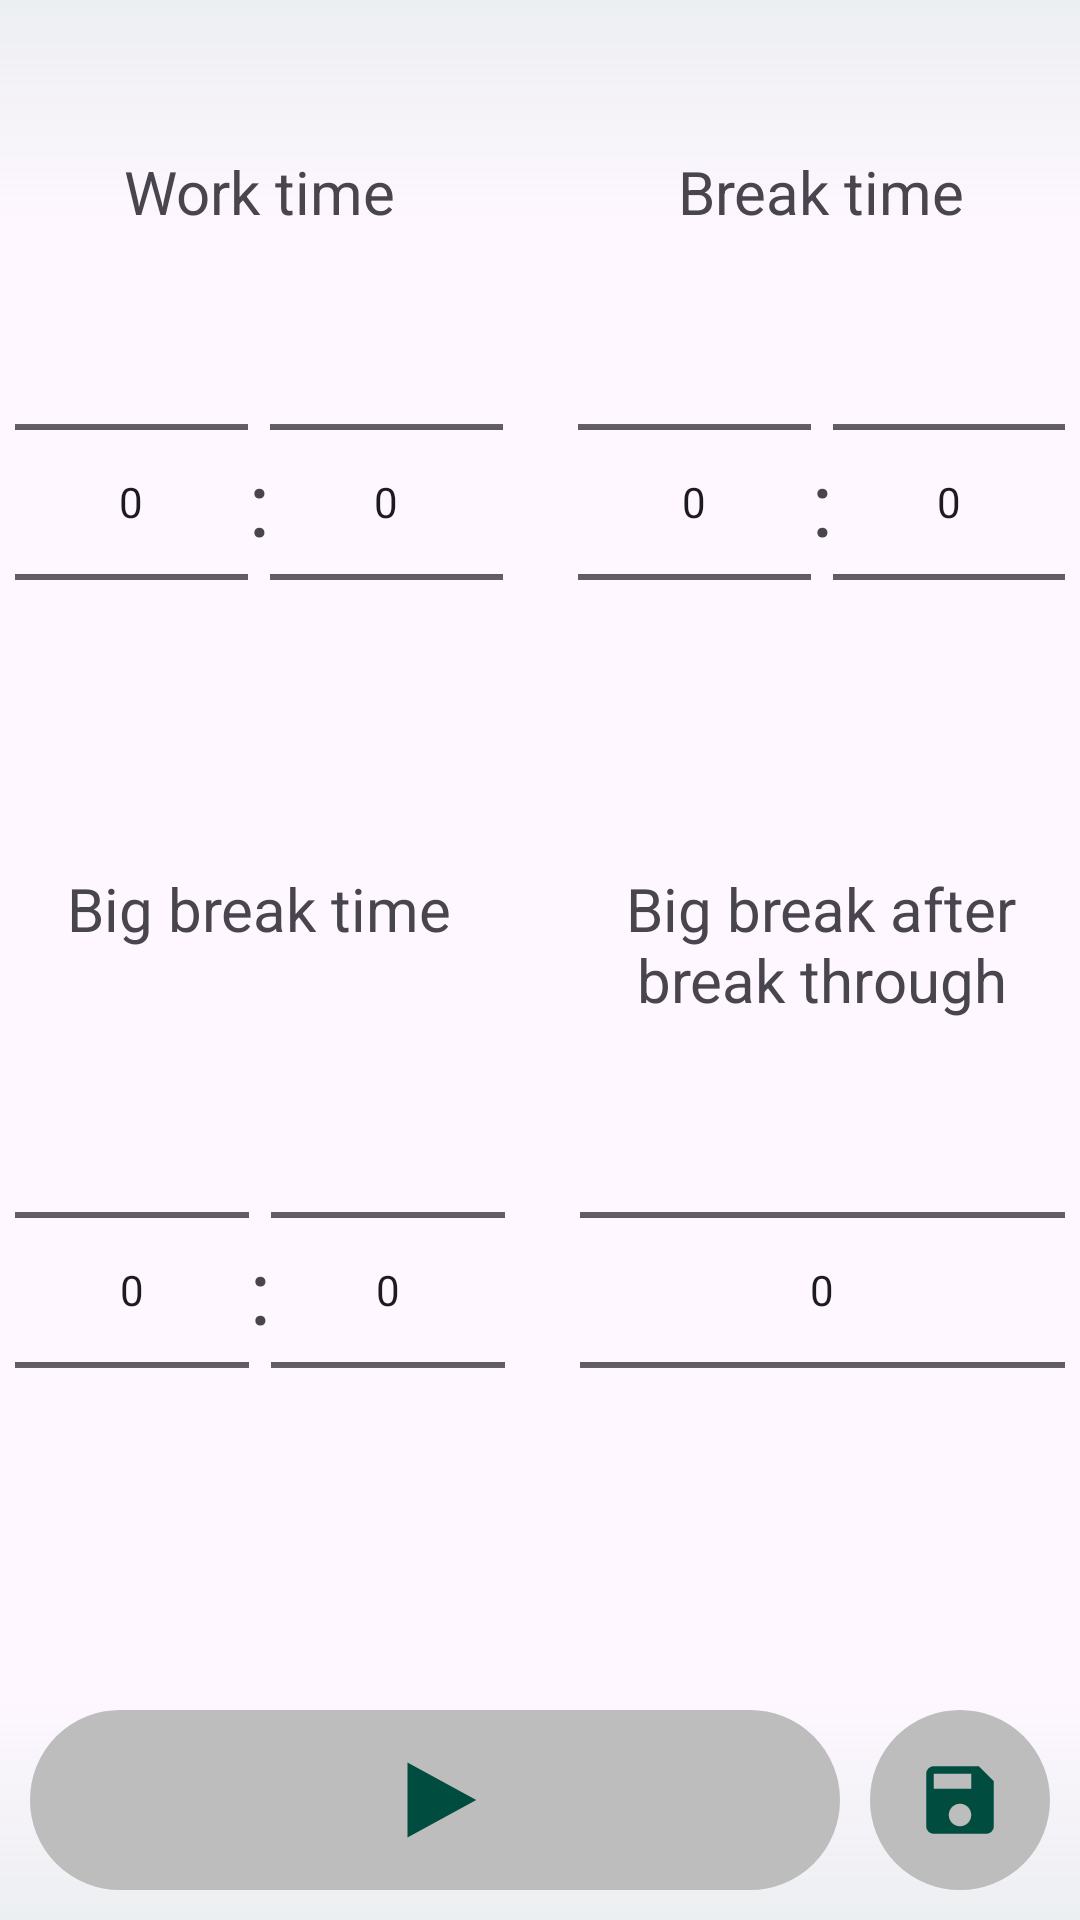

Icons on this 1080 × 1920 Android screen, each with the point to tap as (x=x, y=y):
Save timer: (x=960, y=1800)
